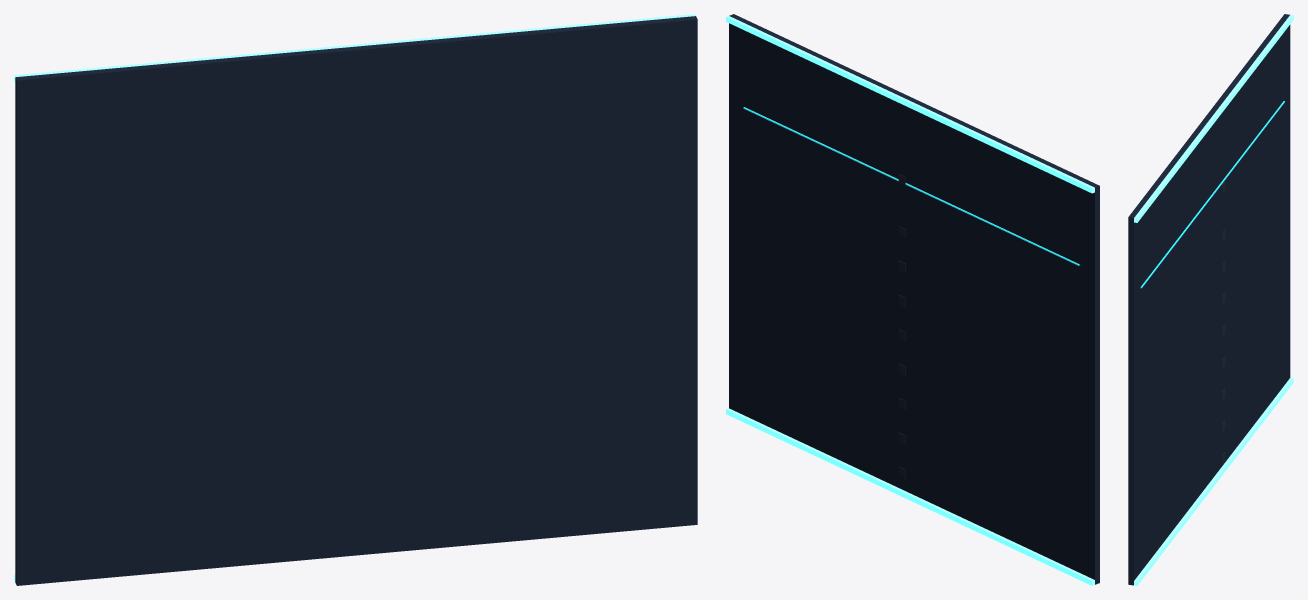
File: desk_assembly.glb
3 views of the same model, side by side, from view 1: azimuth 30°, elevation 25°; view 2: azimuth 150°, elevation 25°; view 3: azimuth 270°, elevation 25° (orthographic). The views are drawn at different scales.
Parts seen in each view (by area): view 1: McDeskBoard; view 2: McDeskBoard; view 3: McDeskBoard.
Boxes of the visible parts, x1,y1,x2,y2 form: McDeskBoard: (14, 14, 697, 585); McDeskBoard: (726, 14, 1099, 585); McDeskBoard: (1128, 14, 1293, 585).
Bounding box in the file's own units: 1.59 × 1.33 × 0.5434.
